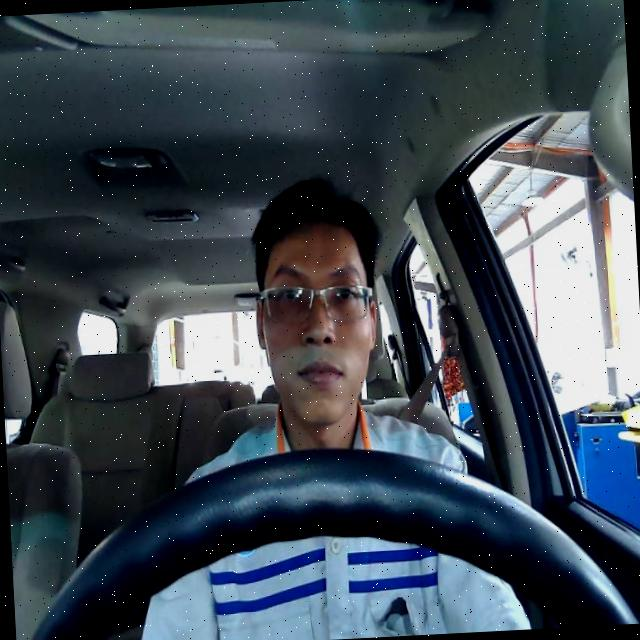focused: (248, 219, 382, 426)
